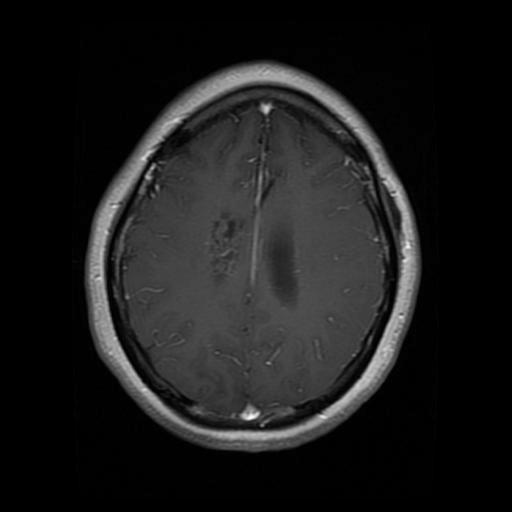Tumour-Glioma: (198, 198, 253, 300)
